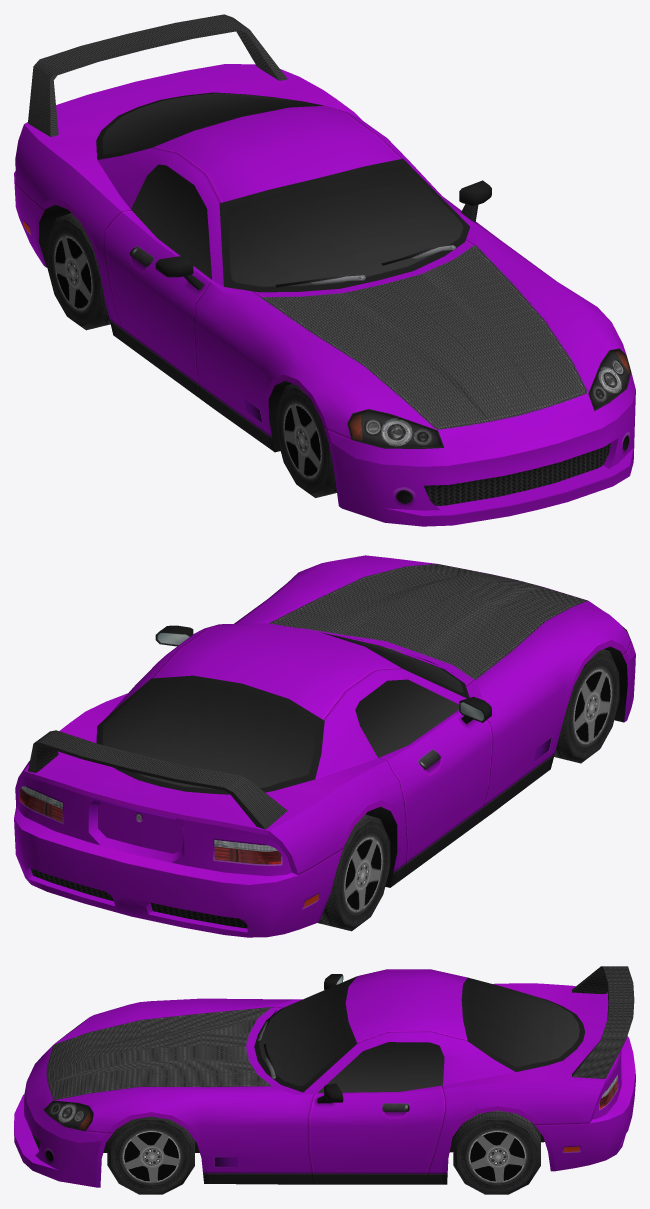
Rendered from ModernPerformanceCar.fbx.
3 renders of one model, top to bottom at view 1: azimuth 30°, elevation 25°; view 2: azimuth 150°, elevation 25°; view 3: azimuth 270°, elevation 25°, orthographic. The views are drawn at different scales.
Parts seen in each view (by area): view 1: Chassis, RR_WHeel, RF_Wheel; view 2: Chassis, RR_WHeel, RF_Wheel; view 3: Chassis, LR_Wheel, LF_Wheel.
Boxes of the visible parts, bbox=[...] form: Chassis: bbox=[14, 14, 635, 526]; RR_WHeel: bbox=[47, 213, 110, 330]; RF_Wheel: bbox=[276, 383, 336, 497]; Chassis: bbox=[14, 555, 635, 937]; RR_WHeel: bbox=[317, 814, 390, 931]; RF_Wheel: bbox=[554, 649, 619, 763]; Chassis: bbox=[14, 966, 635, 1187]; LR_Wheel: bbox=[453, 1110, 540, 1194]; LF_Wheel: bbox=[107, 1116, 195, 1194].
Bounding box in the file's own units: 2.57 × 1.47 × 5.57.
Materials: 2 (2 with a texture image).
